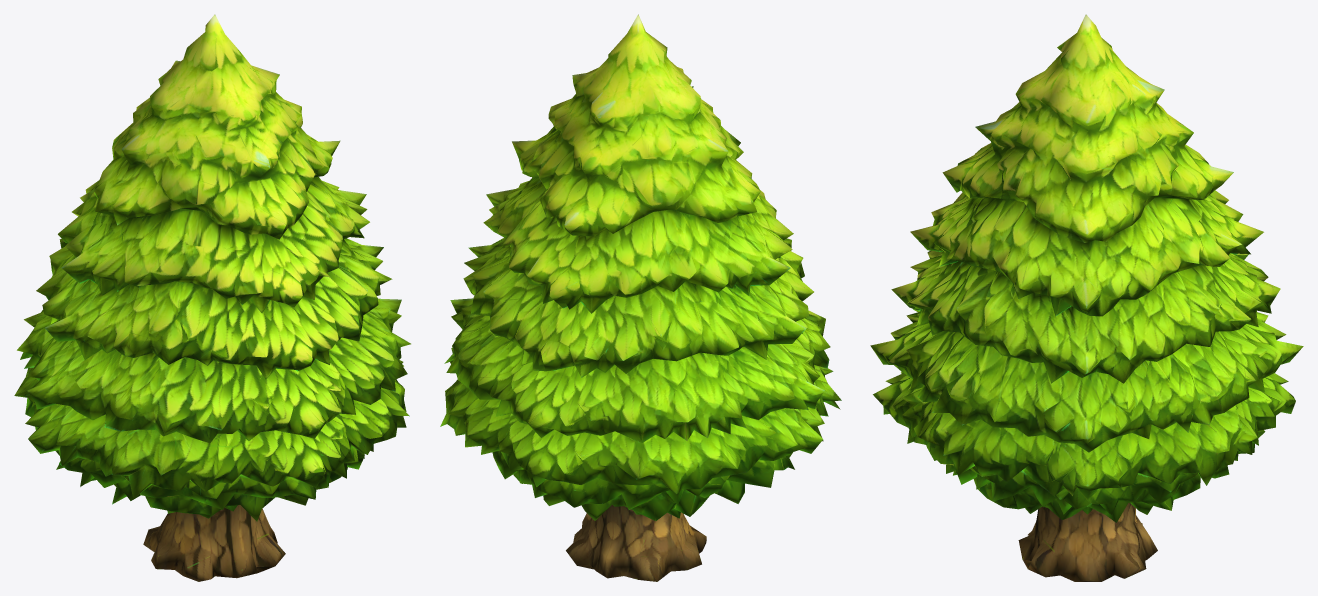
File: route_evergreen_tree.glb
3 views of the same model, side by side, from view 1: azimuth 30°, elevation 25°; view 2: azimuth 150°, elevation 25°; view 3: azimuth 270°, elevation 25° (orthographic).
Visible parts, largest first — view 1: Mesh_0; view 2: Mesh_0; view 3: Mesh_0.
Part boxes in pixels (x1,y1,x2,y2): Mesh_0: (14,14,410,581); Mesh_0: (440,14,841,581); Mesh_0: (870,14,1303,581).
Bounding box in the file's own units: 1.39 × 1.91 × 1.39.
Materials: 1 (1 with a texture image).
